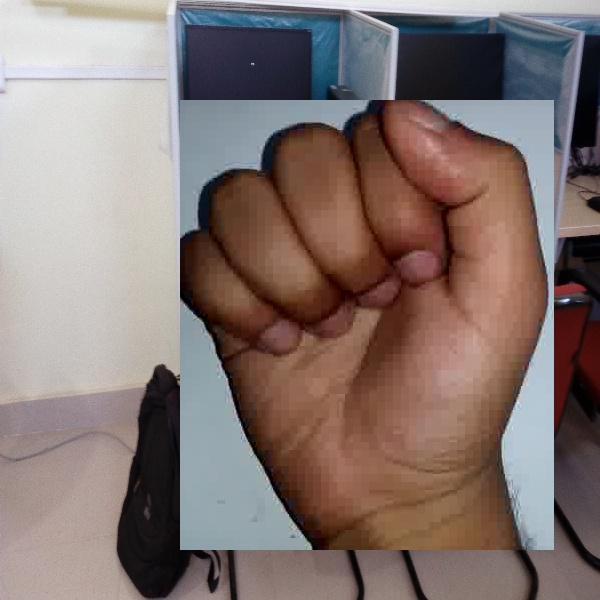A: (180, 100, 554, 550)
